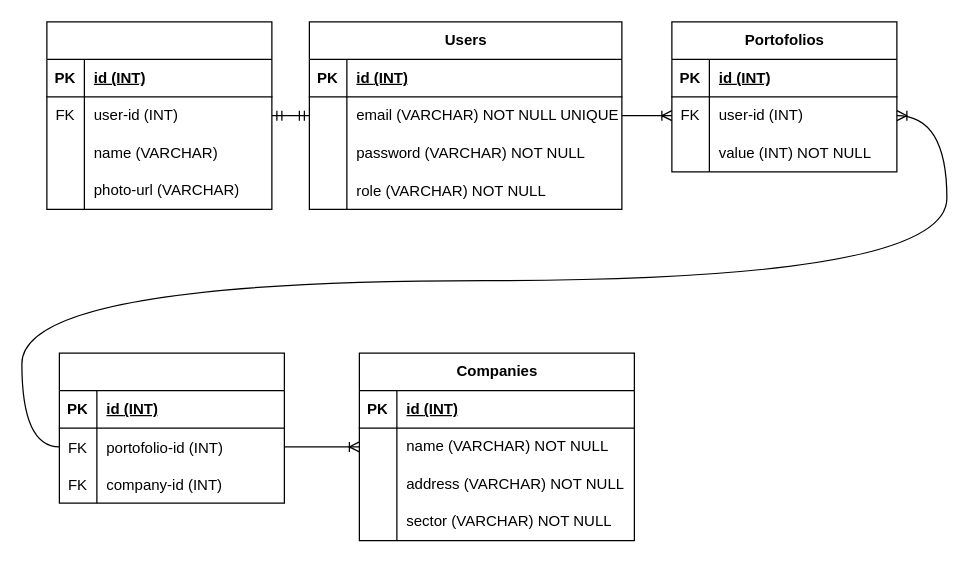
The diagram is 969 pixels wide and 563 high, and some of its shapes have lost their labels. The shapes that lost their labels are listed below. From the top down, each one's box as (x1, y1, x2, y2) in pixels, then its label:
(46, 21, 272, 209): UserProfiles
(58, 352, 284, 503): Portofolio-Company
